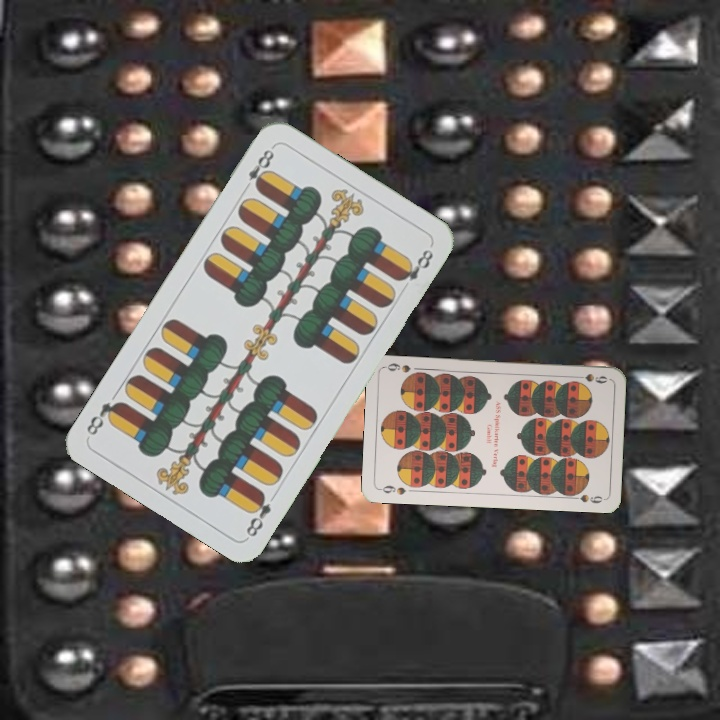E8: (238, 143, 277, 194), (241, 487, 274, 540)
S9: (570, 370, 609, 386), (376, 481, 409, 497)
